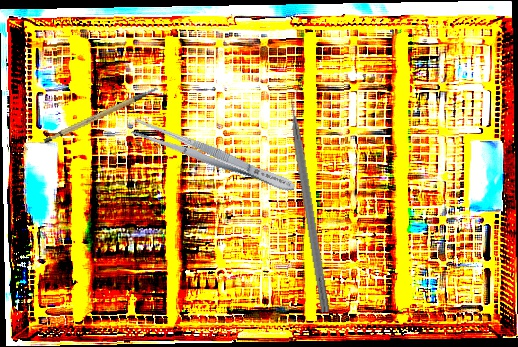Chopper: (284, 83, 343, 313)
Dressing Forceps: (129, 115, 299, 199)
Scalpel Handle: (38, 86, 166, 146)
